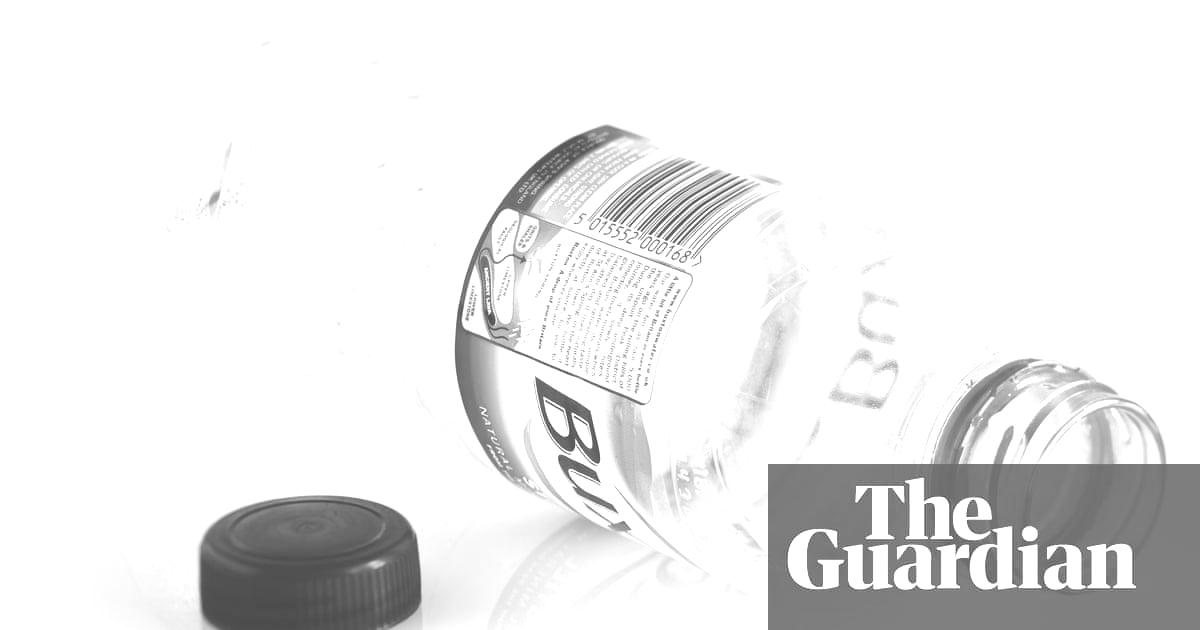bottle: (70, 0, 1156, 591)
